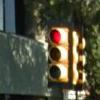Traffic light: (42, 18, 89, 88)
